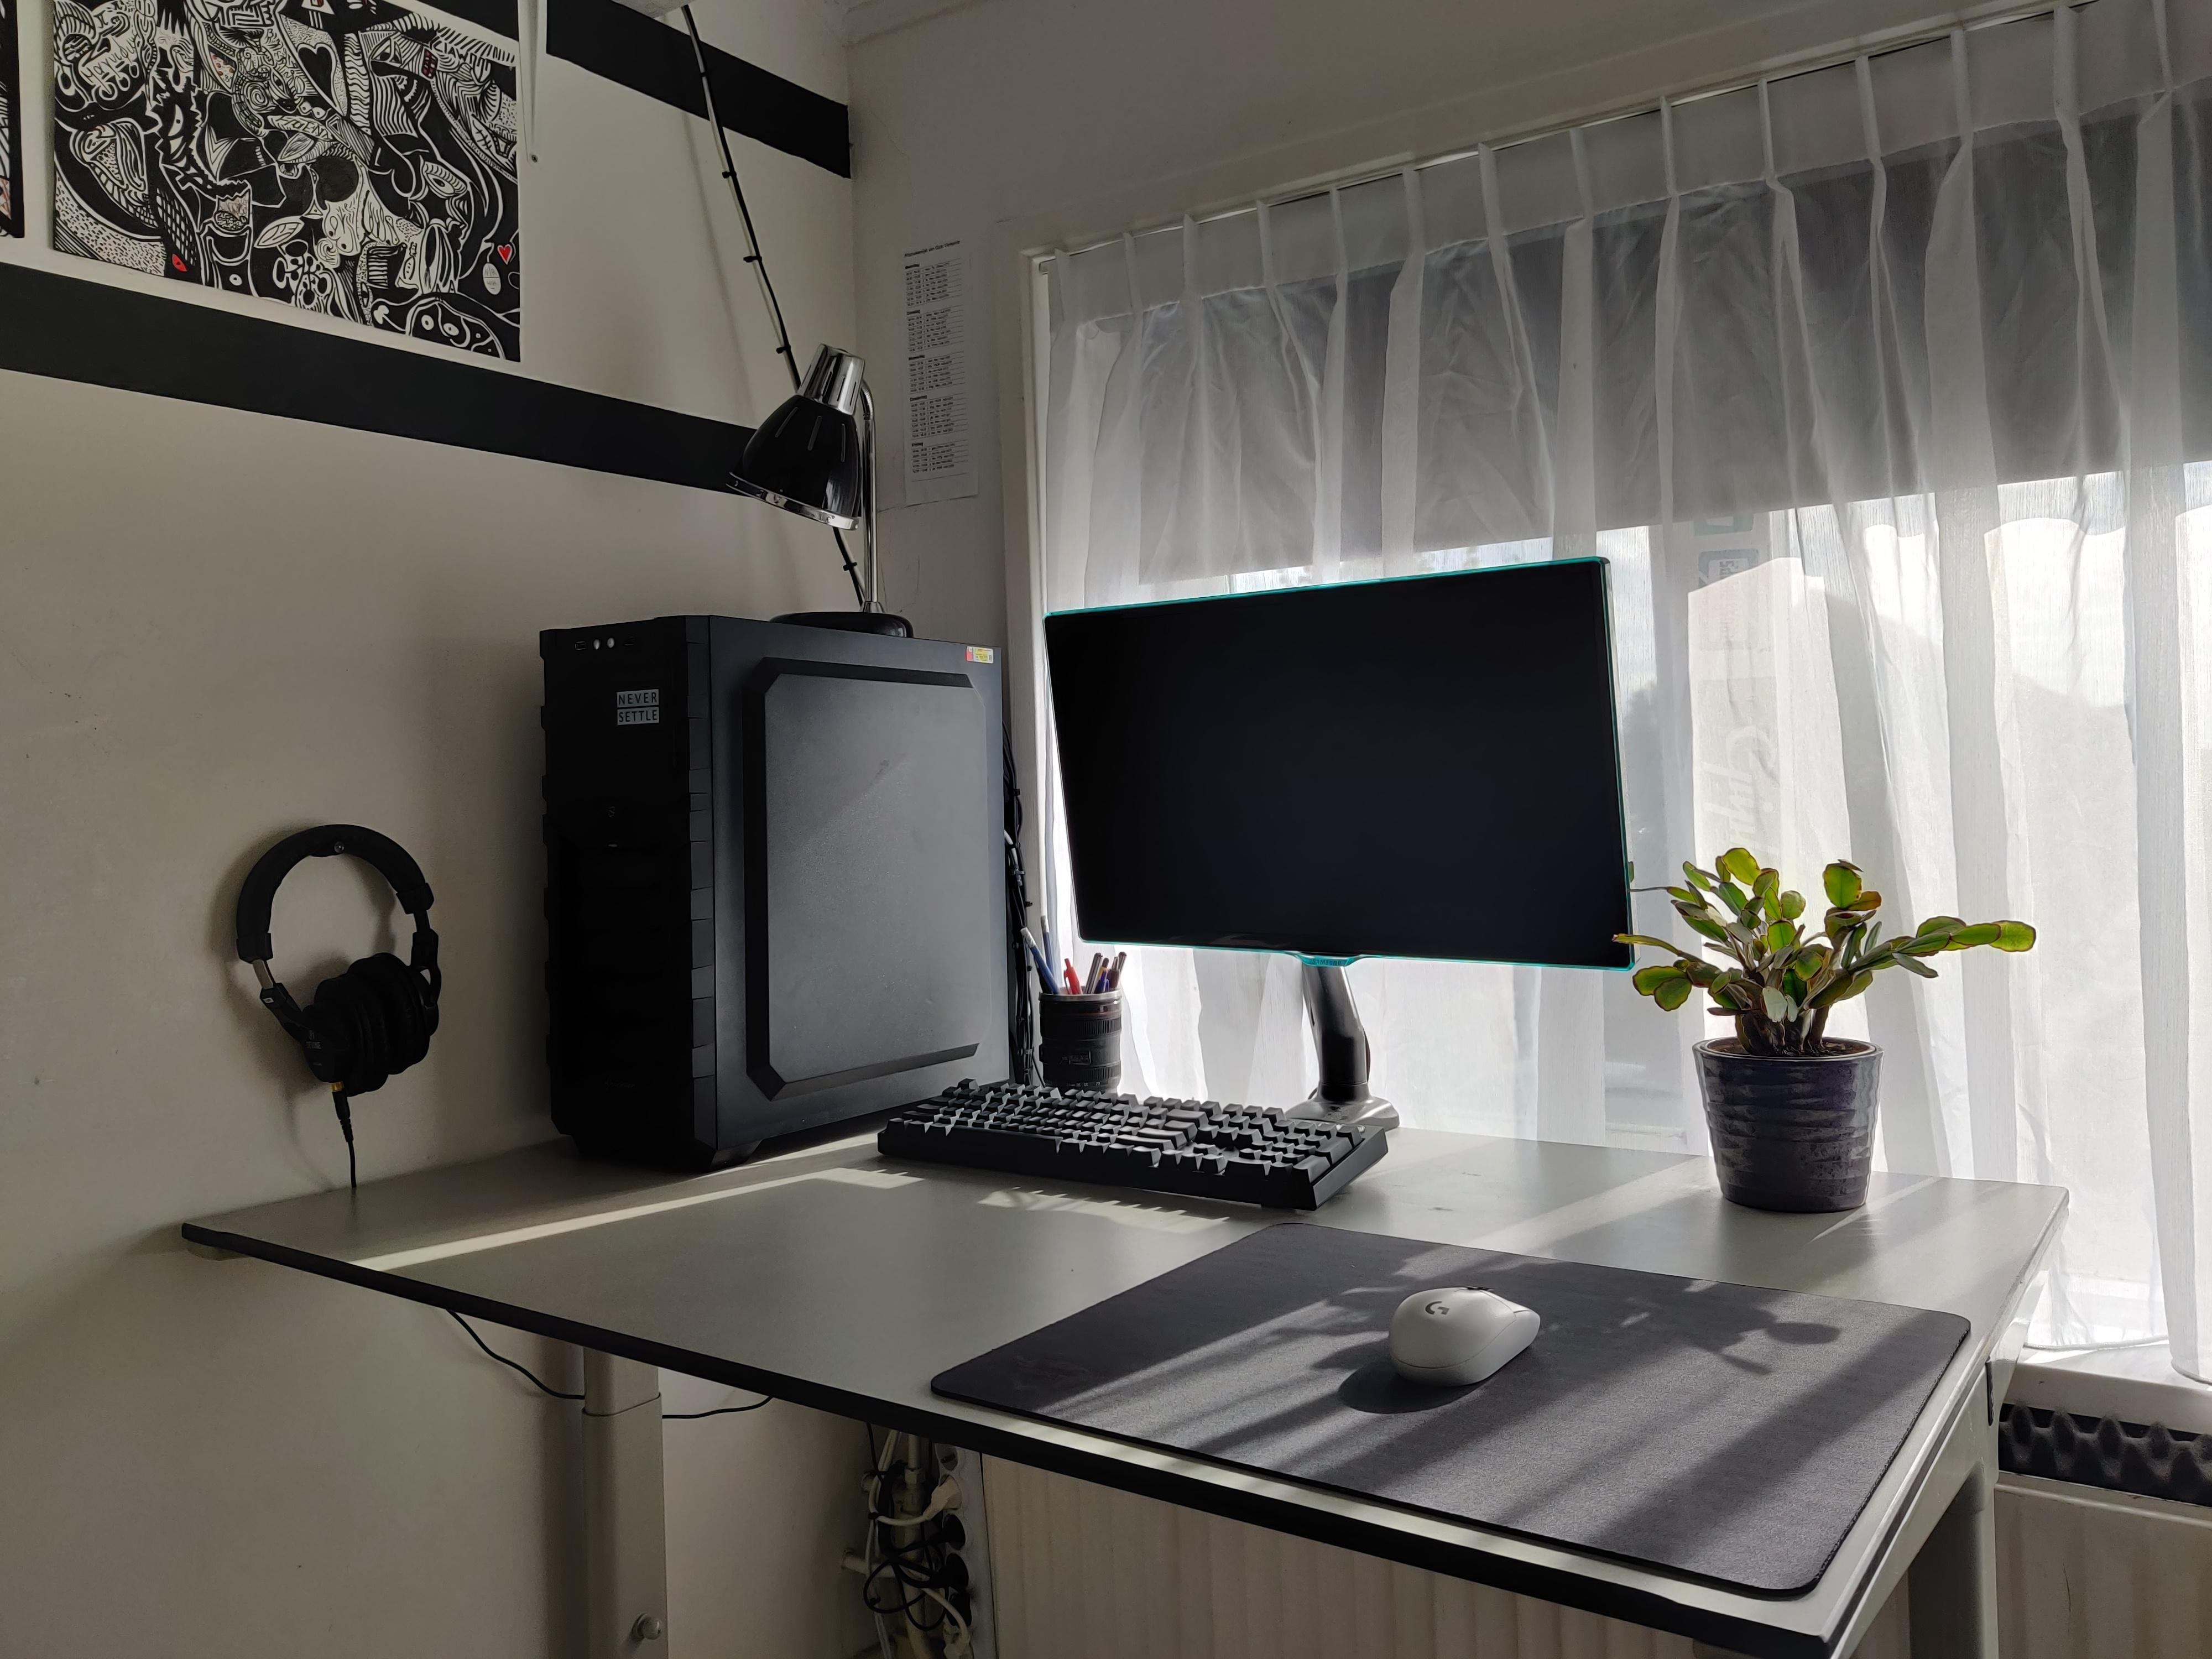Decoration (Plant): (1665, 852, 1912, 1216)
Desk (Standing): (0, 1107, 2055, 1659)
Desktop (Generic): (535, 626, 1012, 1176)
Headphones: (209, 802, 469, 1114)
Keyboard (Generic): (864, 1084, 1397, 1173)
Lamp (Desk): (719, 335, 928, 648)
Monitor (Landscape): (1036, 608, 1642, 967)
Monitor Arm: (1264, 943, 1409, 1136)
Mouse (Generic): (1320, 1269, 1595, 1394)
Mousepad (Gaming): (946, 1188, 1994, 1615)
Power Strip: (845, 1420, 1008, 1654)
